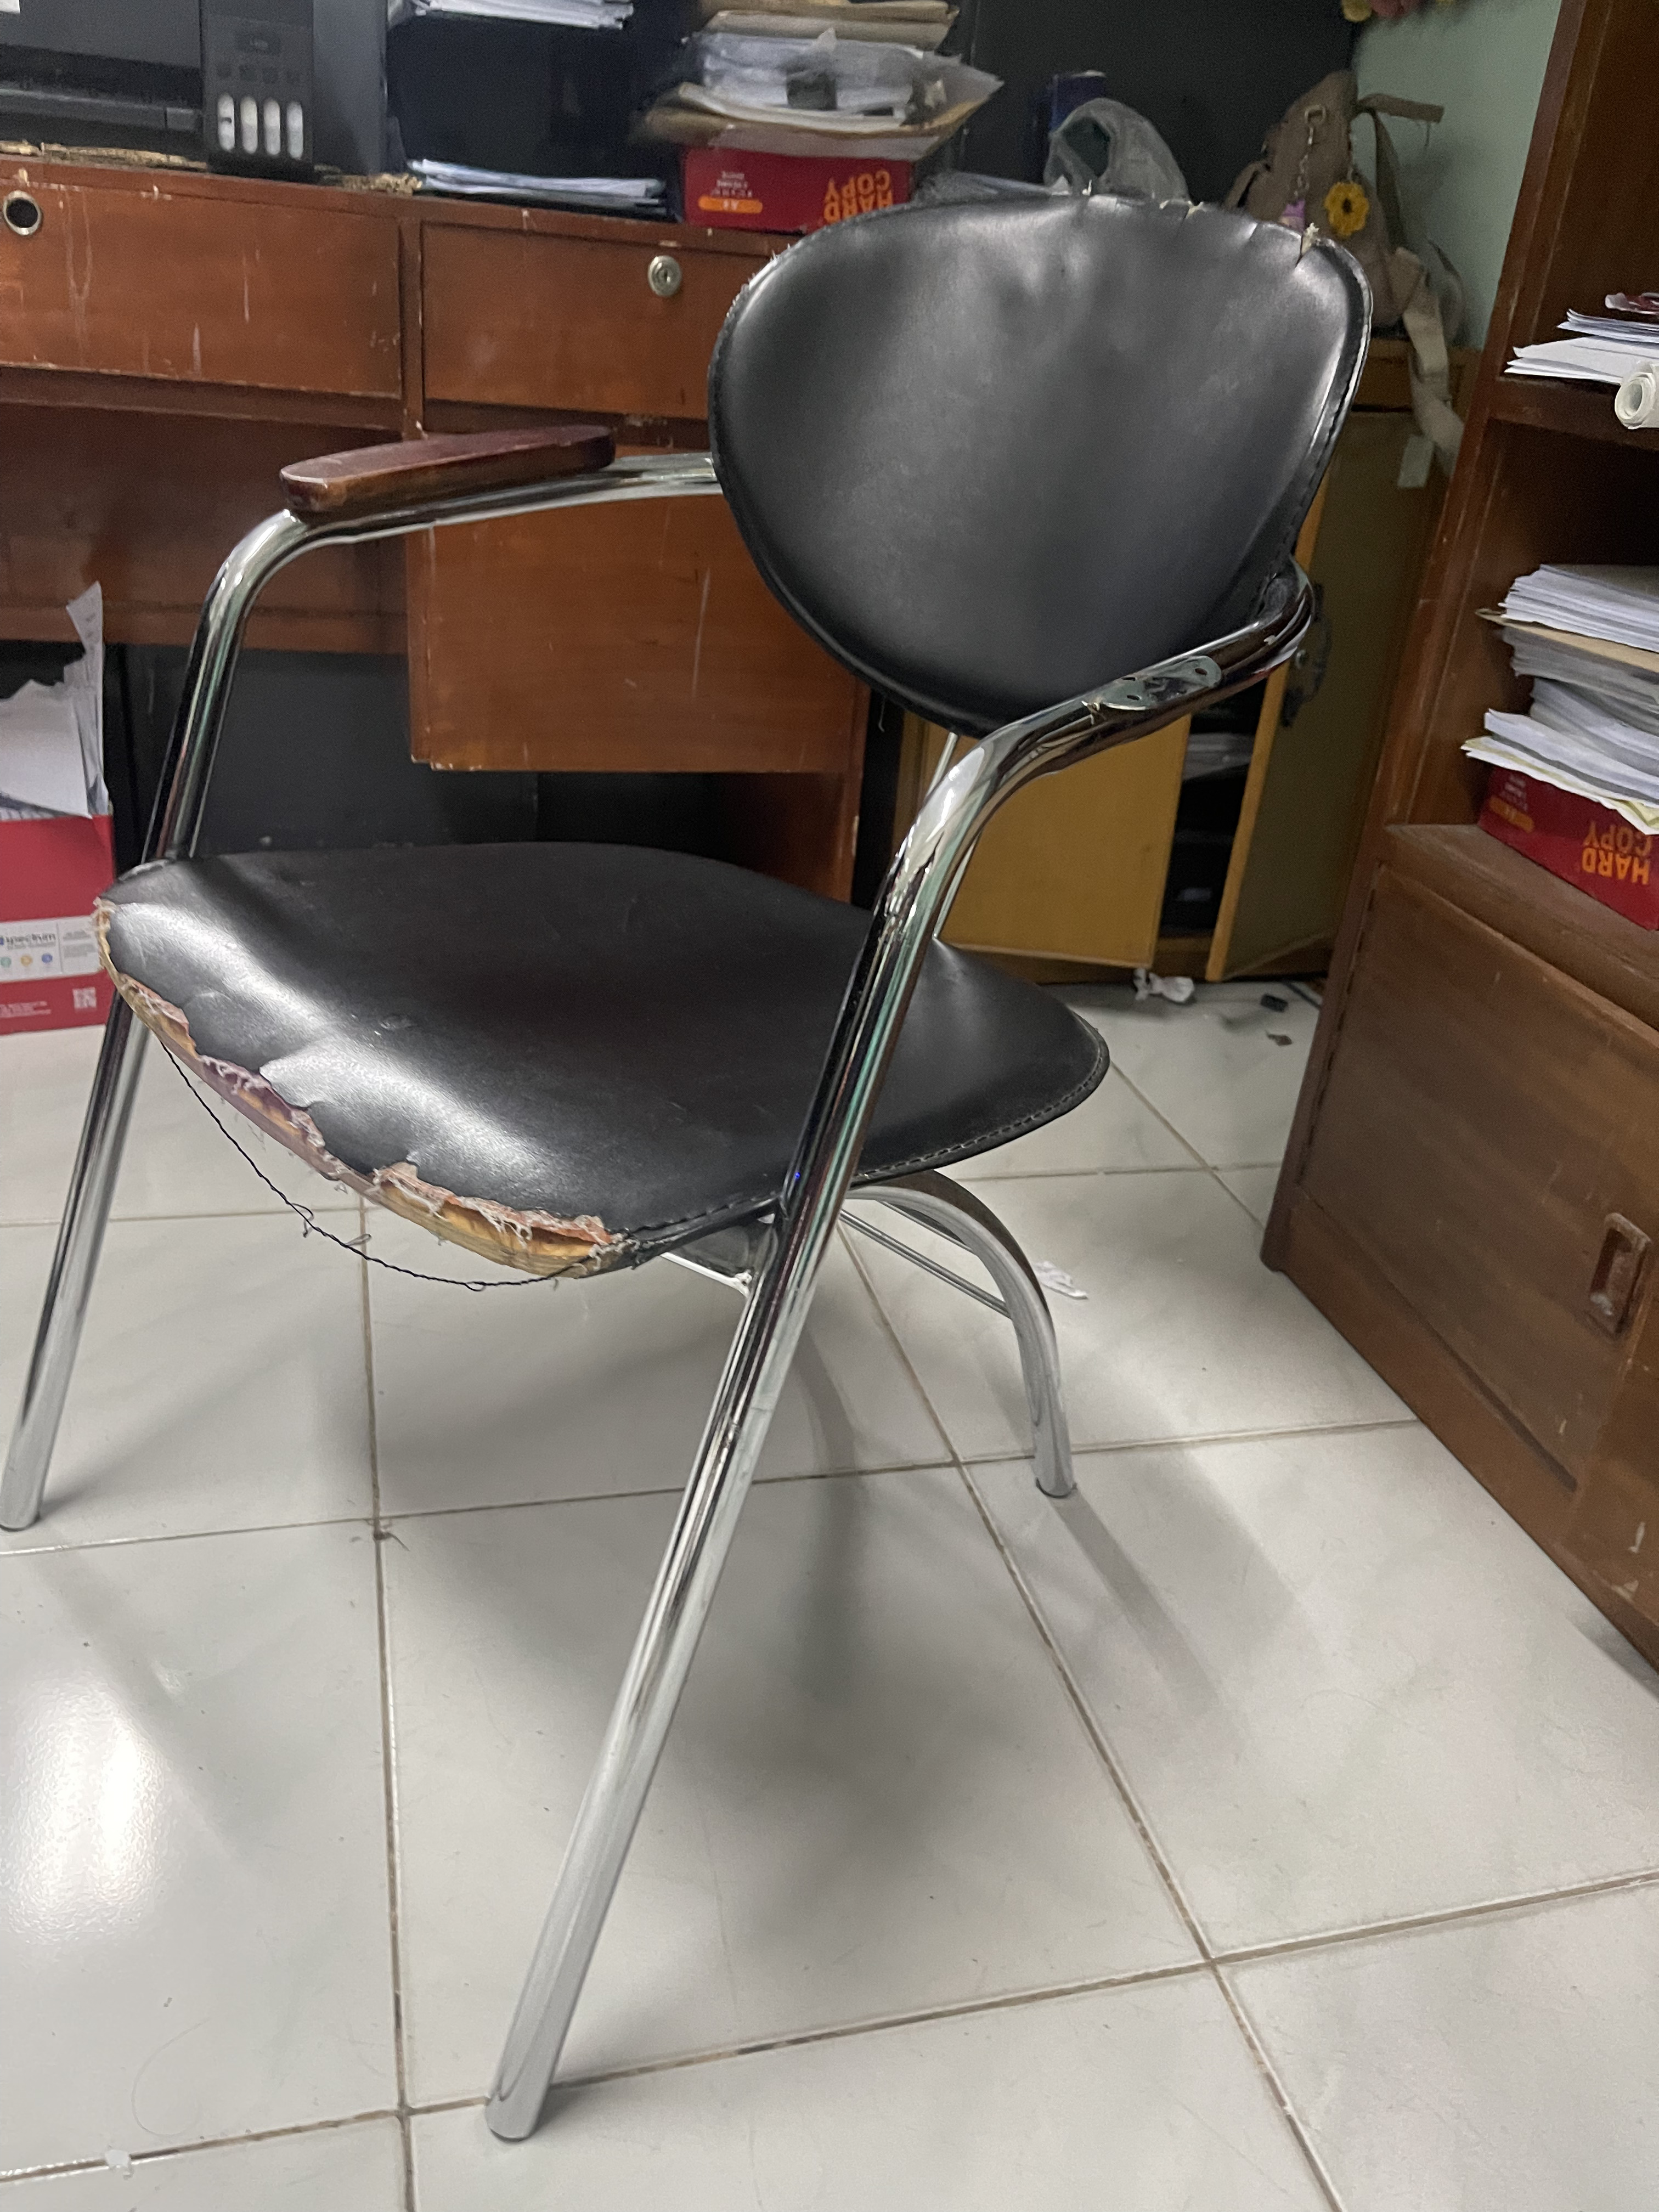chair1: (5, 195, 1377, 2141)
